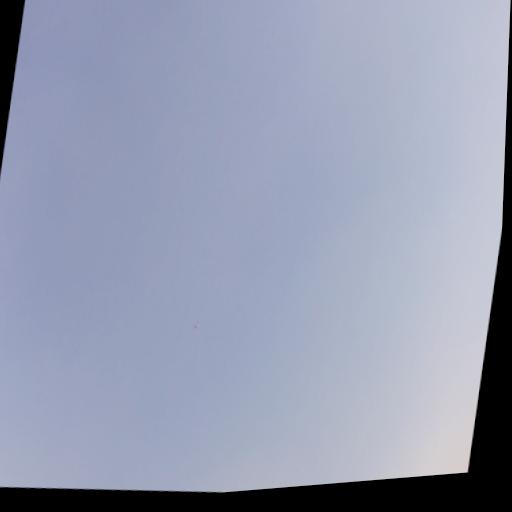drones: (192, 319, 201, 332)
